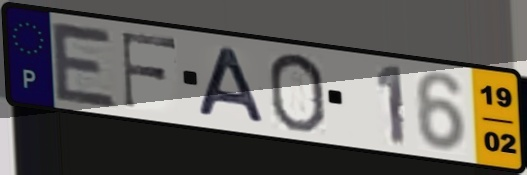1: (373, 63, 409, 148)
6: (413, 67, 470, 156)
A: (195, 43, 269, 127)
E: (47, 18, 121, 112)
F: (119, 30, 180, 111)
O: (265, 51, 328, 134)
